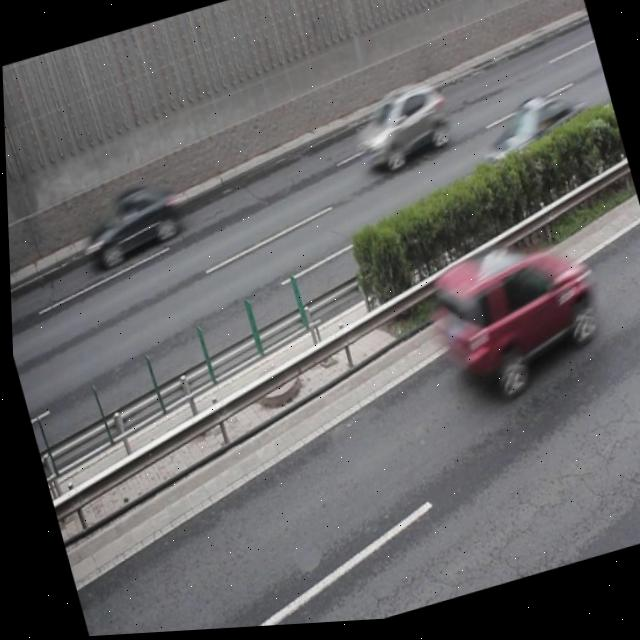car: (419, 224, 605, 408), (475, 89, 593, 192), (346, 78, 457, 184), (71, 176, 185, 272)
